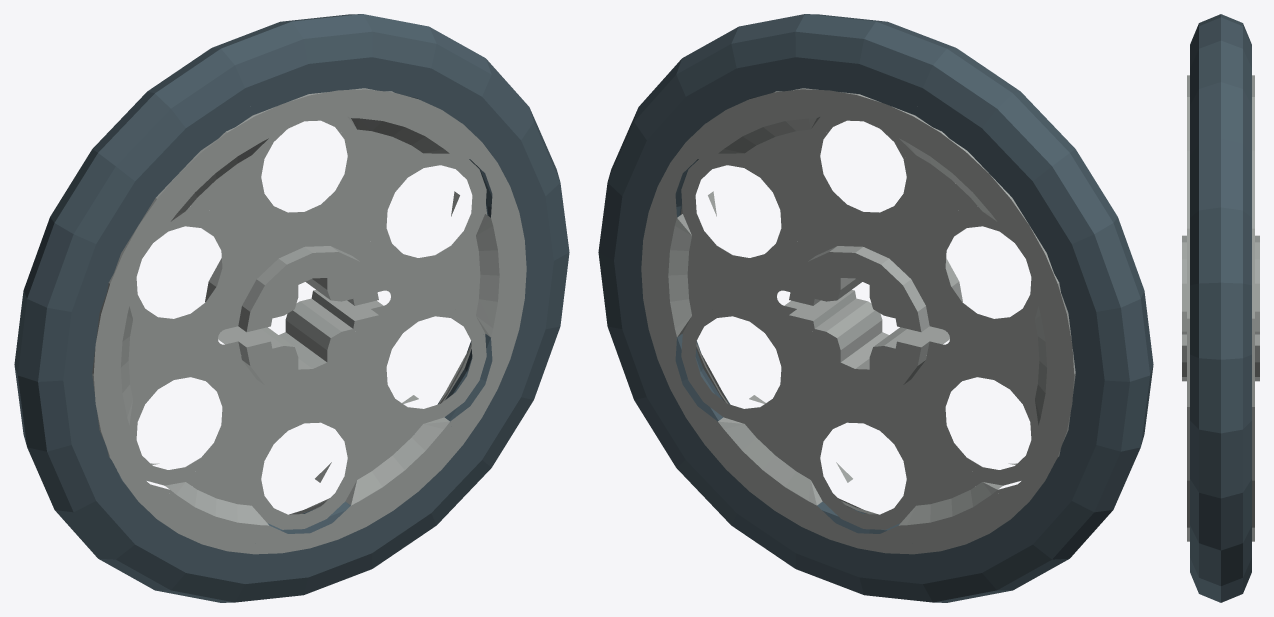
3 renders of one model, left to right at view 1: azimuth 30°, elevation 25°; view 2: azimuth 150°, elevation 25°; view 3: azimuth 270°, elevation 25°, orthographic. The views are drawn at different scales.
Parts seen in each view (by area): view 1: world; view 2: world; view 3: world.
Part boxes in pixels (left/top/right/bottom): world: left=14, top=14, right=569, bottom=602; world: left=598, top=14, right=1153, bottom=602; world: left=1182, top=14, right=1259, bottom=602.
Bounding box in the file's own units: 0.0304 × 0.0304 × 0.004.
